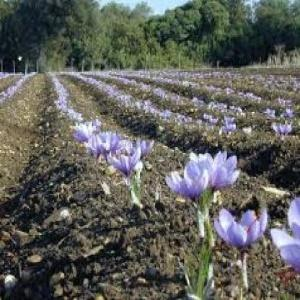Saffron: (214, 207, 268, 250), (167, 164, 209, 200), (204, 153, 240, 193), (109, 150, 145, 178)
